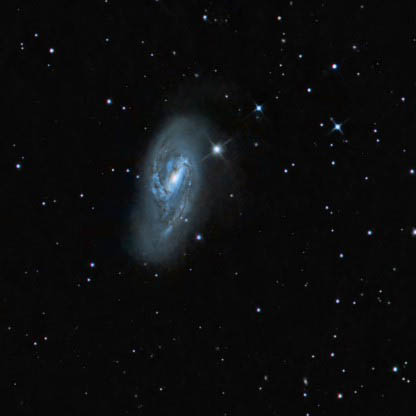Messier 66: (115, 101, 240, 267)
